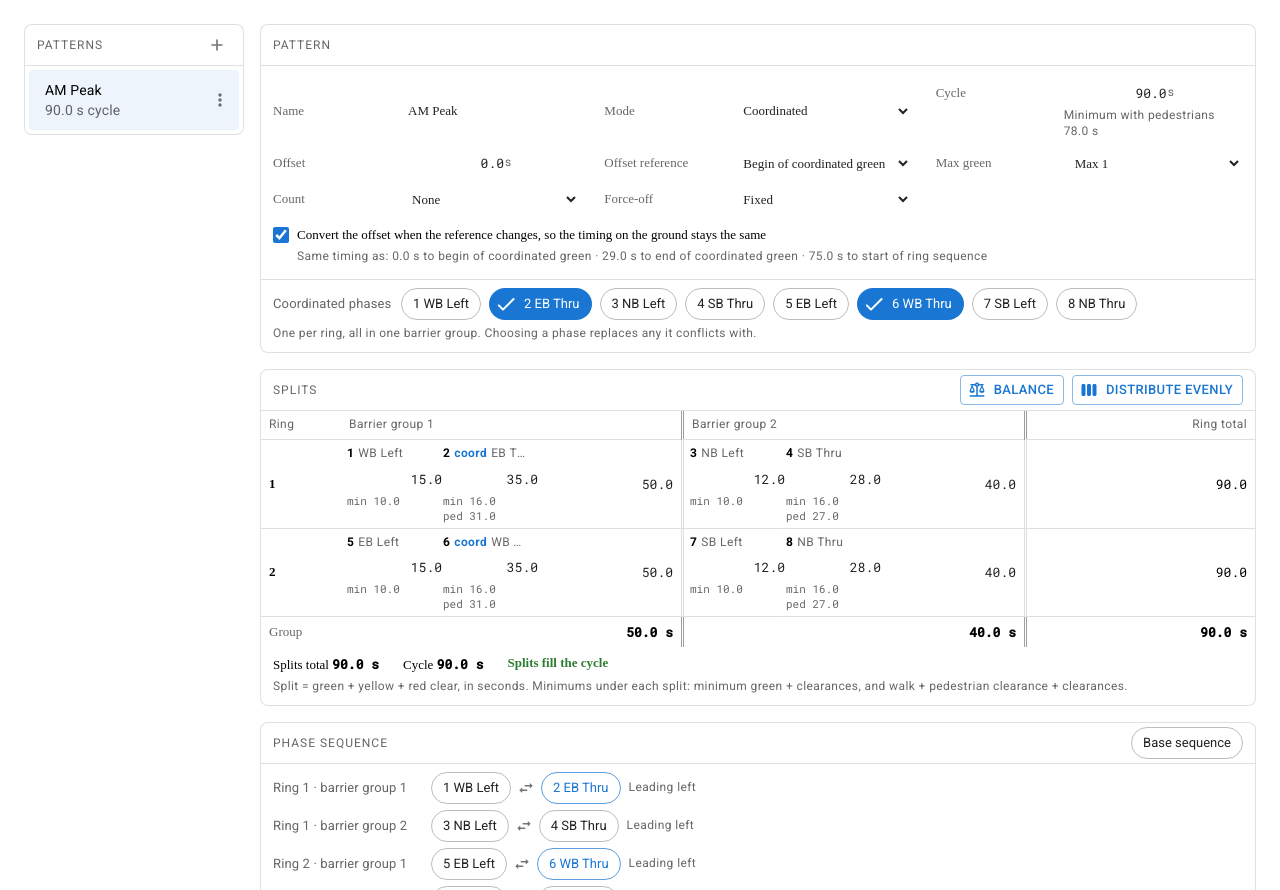
Test: PatternsTab › adds a pattern and selects it
The width and height of the screenshot is (1280, 890).
Click the button named "Add pattern".
click(217, 45)  # box [203,31,231,59]
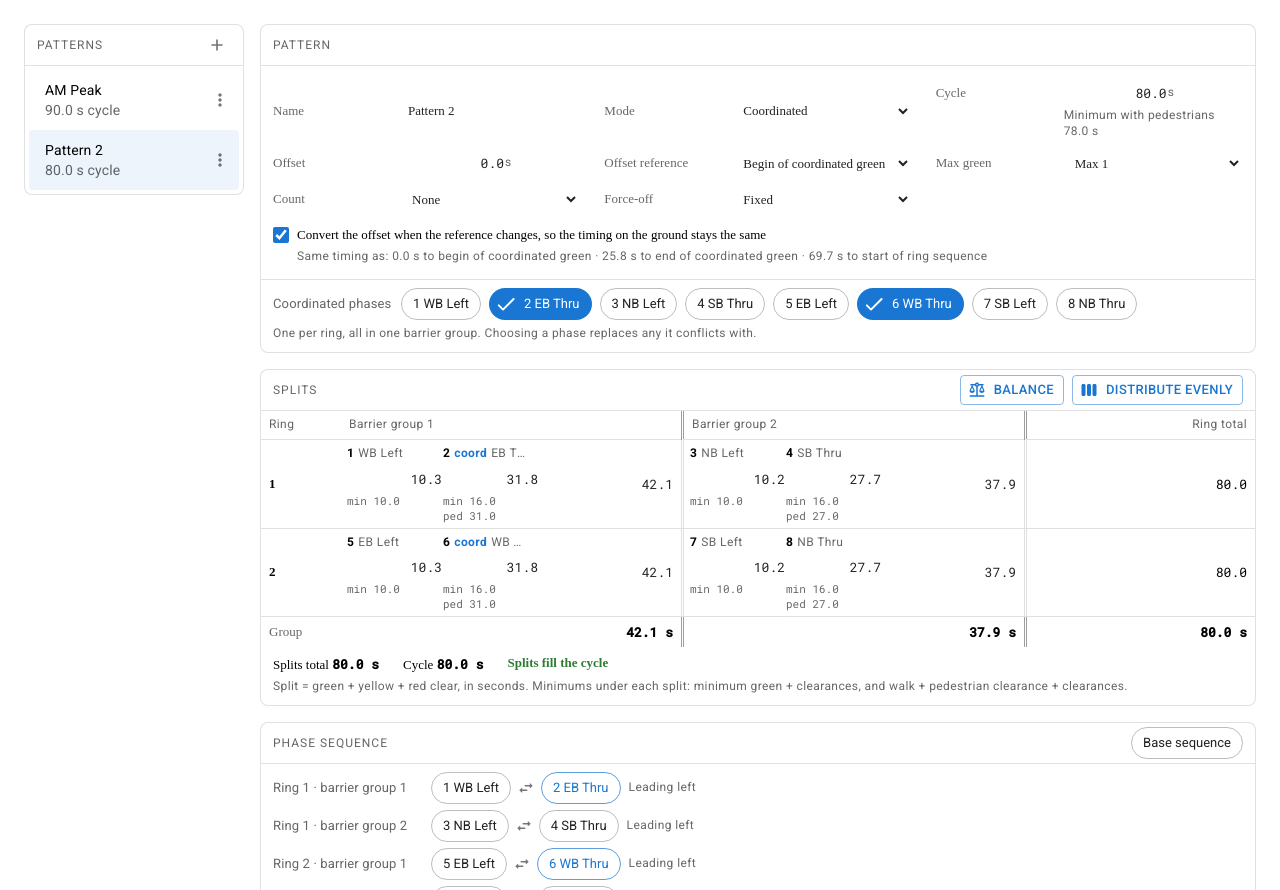
Expected: the field named "Cycle length" holds "80.0", [1064,78,1174,108]
